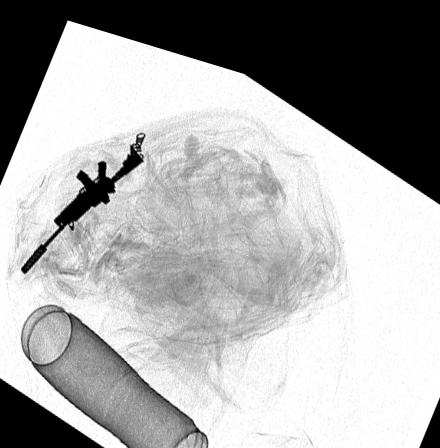Gun: (24, 134, 147, 272)
